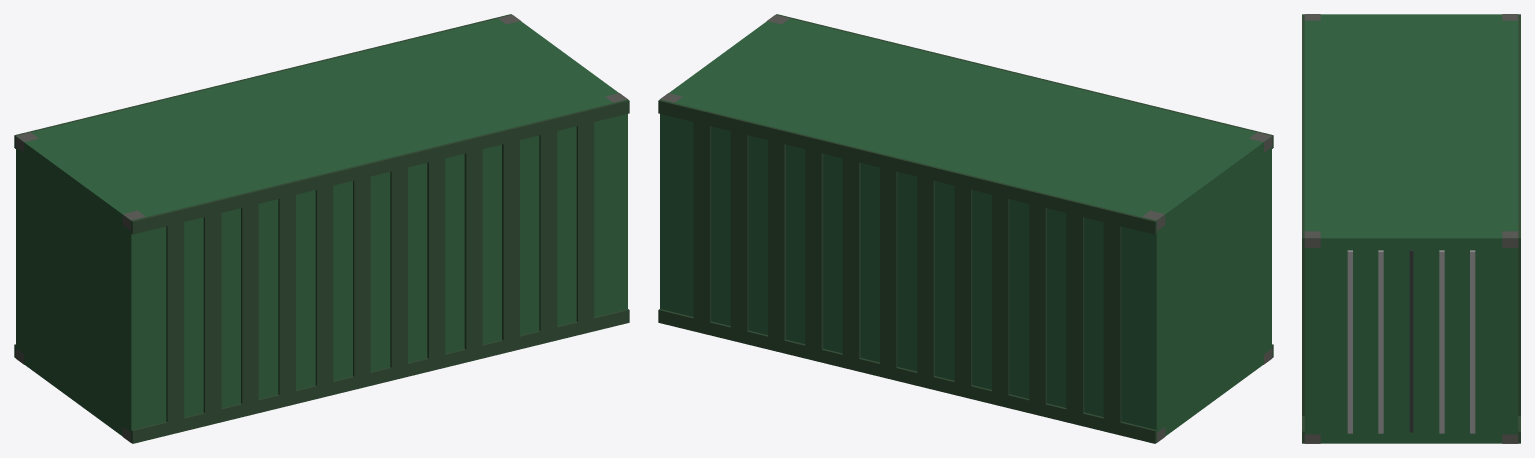
File: industrial.yard.container_green.glb
3 views of the same model, side by side, from view 1: azimuth 30°, elevation 25°; view 2: azimuth 150°, elevation 25°; view 3: azimuth 270°, elevation 25° (orthographic). The views are drawn at different scales.
Visible parts, largest first — view 1: main__paint_364, main__paint_353, main__paint_555; view 2: main__paint_364, main__paint_353, main__paint_555; view 3: main__paint_364, main__paint_999, main__paint_353, main__paint_555, main__paint_333.
Boxes of the visible parts, x1,y1,x2,y2 form: main__paint_364: (16,18,627,442); main__paint_353: (14,14,629,443); main__paint_555: (15,14,627,442); main__paint_364: (660,18,1271,442); main__paint_353: (658,14,1273,443); main__paint_555: (660,14,1272,442); main__paint_364: (1304,14,1518,443); main__paint_999: (1347,250,1475,433); main__paint_353: (1302,14,1520,443); main__paint_555: (1304,14,1518,443); main__paint_333: (1409,250,1413,432).
Bounding box in the file's own units: 6.11 × 2.6 × 2.5.
